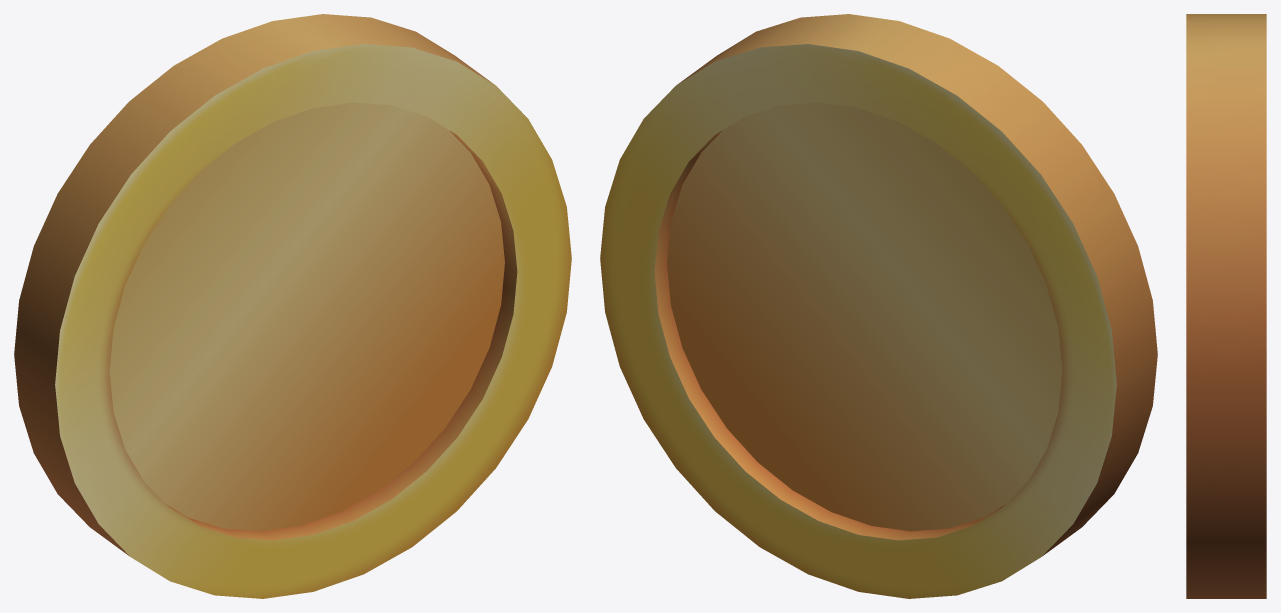
Rendered from coin2.fbx.
The picture shows the model from 3 angles, left to right: view 1: azimuth 30°, elevation 25°; view 2: azimuth 150°, elevation 25°; view 3: azimuth 270°, elevation 25°; orthographic projection.
Parts seen in each view (by area): view 1: coin; view 2: coin; view 3: coin.
Part boxes in pixels (x1,y1,x2,y2): coin: (14, 14, 571, 598); coin: (600, 14, 1157, 598); coin: (1186, 14, 1266, 598).
Size of the model in its own units: 16.7 by 16.7 by 2.29.
Materials: 1 (1 with a texture image).
